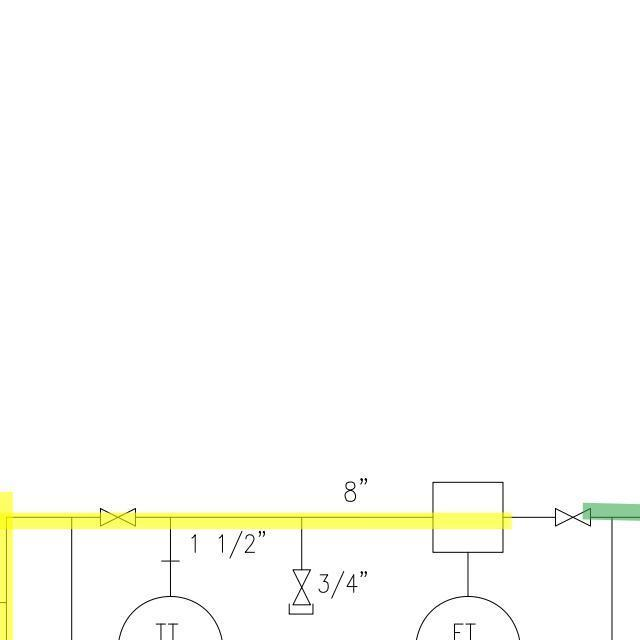EC: (284, 535, 318, 617)
GV: (95, 505, 141, 532), (550, 504, 593, 528), (292, 563, 312, 609)
